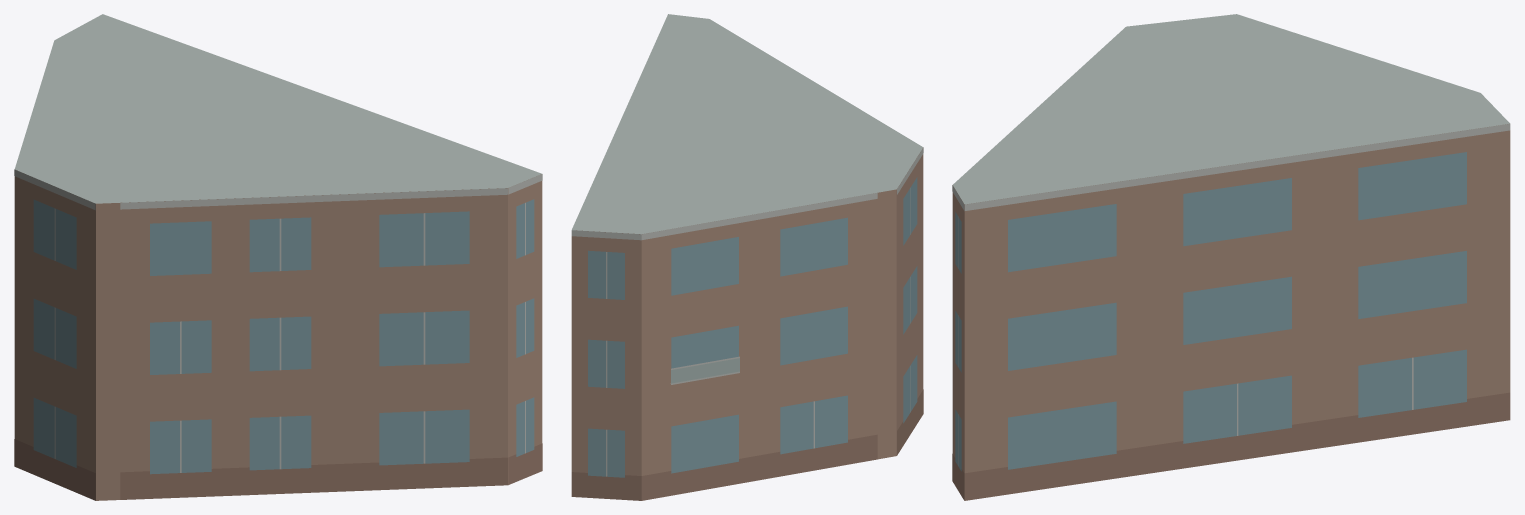
File: survey-upis-33026476.glb
3 renders of one model, left to right at view 1: azimuth 30°, elevation 25°; view 2: azimuth 150°, elevation 25°; view 3: azimuth 270°, elevation 25°, orthographic. The views are drawn at different scales.
Visible parts, largest first — view 1: survey-upis-33026476.tmp; view 2: survey-upis-33026476.tmp; view 3: survey-upis-33026476.tmp.
Part boxes in pixels (x1,y1,x2,y2): survey-upis-33026476.tmp: [14, 14, 542, 500]; survey-upis-33026476.tmp: [571, 14, 923, 500]; survey-upis-33026476.tmp: [952, 14, 1510, 500].
Bounding box in the file's own units: 14.78 × 10.72 × 18.29.
